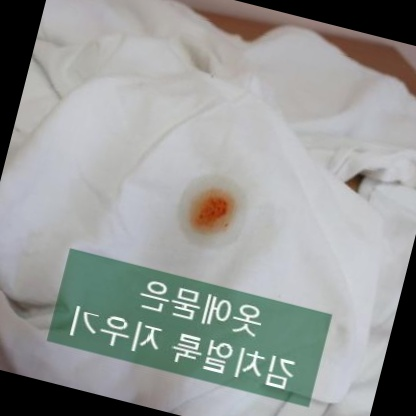kimchi: (184, 176, 250, 246)
